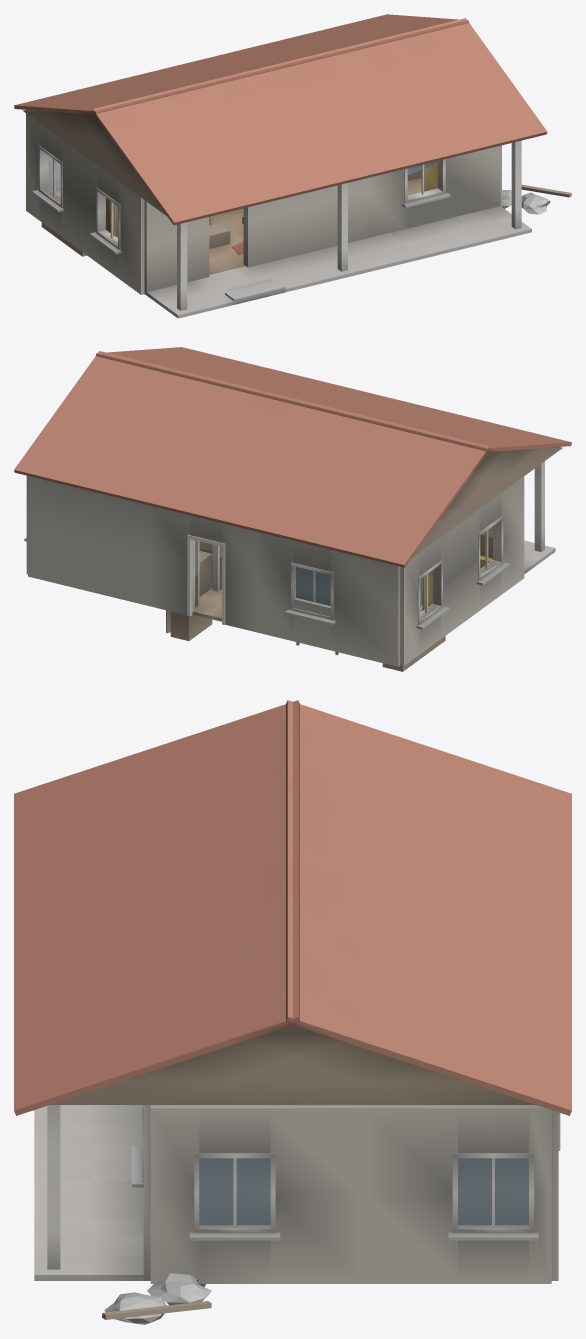
The model's file is casa_r2.glb.
3 renders of one model, top to bottom at view 1: azimuth 30°, elevation 25°; view 2: azimuth 150°, elevation 25°; view 3: azimuth 270°, elevation 25°, orthographic. The views are drawn at different scales.
Parts seen in each view (by area): view 1: longe, ext, dentro, detalhe, mesa_centro_sala; view 2: longe, ext, detalhe, dentro, guarda_roupa_quarto2; view 3: longe, ext, detalhe, dentro.
Boxes of the visible parts, bbox=[...] form: longe: bbox=[14, 14, 547, 225]; ext: bbox=[26, 113, 501, 295]; dentro: bbox=[48, 156, 531, 318]; detalhe: bbox=[32, 140, 571, 310]; mesa_centro_sala: bbox=[209, 223, 230, 248]; longe: bbox=[14, 347, 571, 567]; ext: bbox=[26, 475, 524, 666]; detalhe: bbox=[24, 461, 544, 629]; dentro: bbox=[192, 526, 555, 621]; guarda_roupa_quarto2: bbox=[166, 551, 212, 640]; longe: bbox=[14, 700, 571, 1115]; ext: bbox=[143, 1105, 558, 1283]; detalhe: bbox=[47, 1105, 560, 1324]; dentro: bbox=[34, 1105, 150, 1280].
Size of what is drawn, in the model's own units: 13.18 by 5.59 by 8.63.
